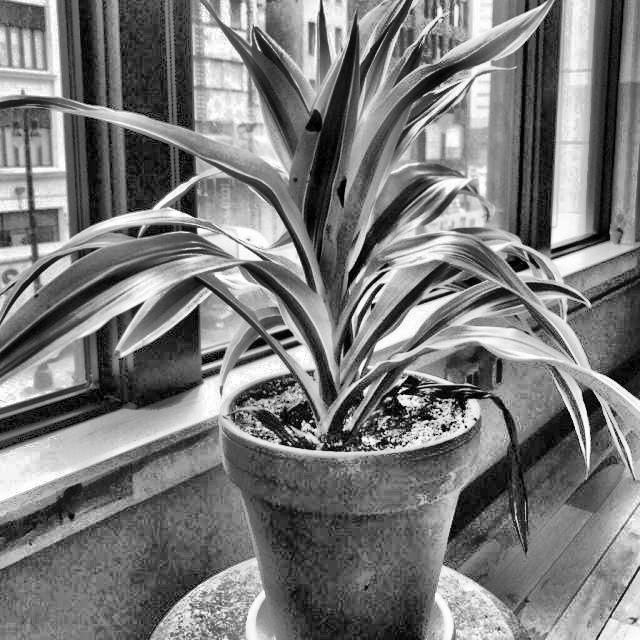plants: (0, 2, 639, 639), (418, 373, 542, 567), (290, 29, 362, 288)
